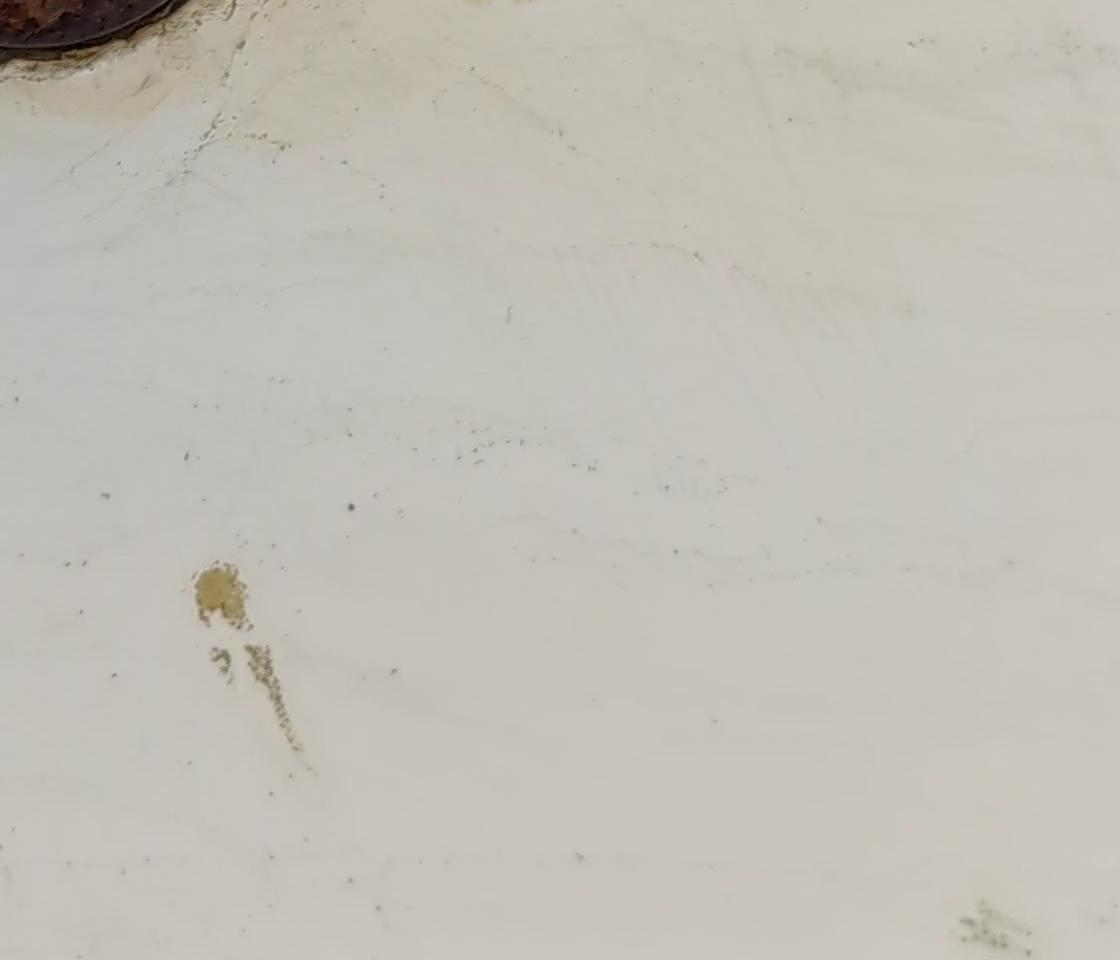paint_peel: (183, 560, 253, 635)
